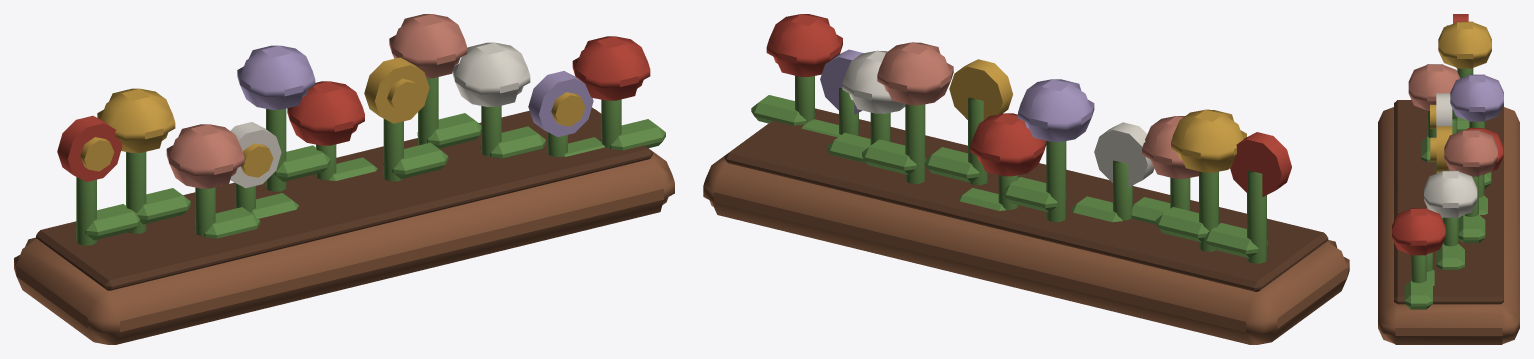
File: flower_bed.glb
3 renders of one model, left to right at view 1: azimuth 30°, elevation 25°; view 2: azimuth 150°, elevation 25°; view 3: azimuth 270°, elevation 25°, orthographic. The views are drawn at different scales.
Parts seen in each view (by area): view 1: body; view 2: body; view 3: body.
Part boxes in pixels (x1=…): body: x1=14, y1=14, x2=674, y2=344; body: x1=703, y1=14, x2=1349, y2=344; body: x1=1378, y1=14, x2=1519, y2=344.
Size of the model in its own units: 3.22 by 1.04 by 0.9.
